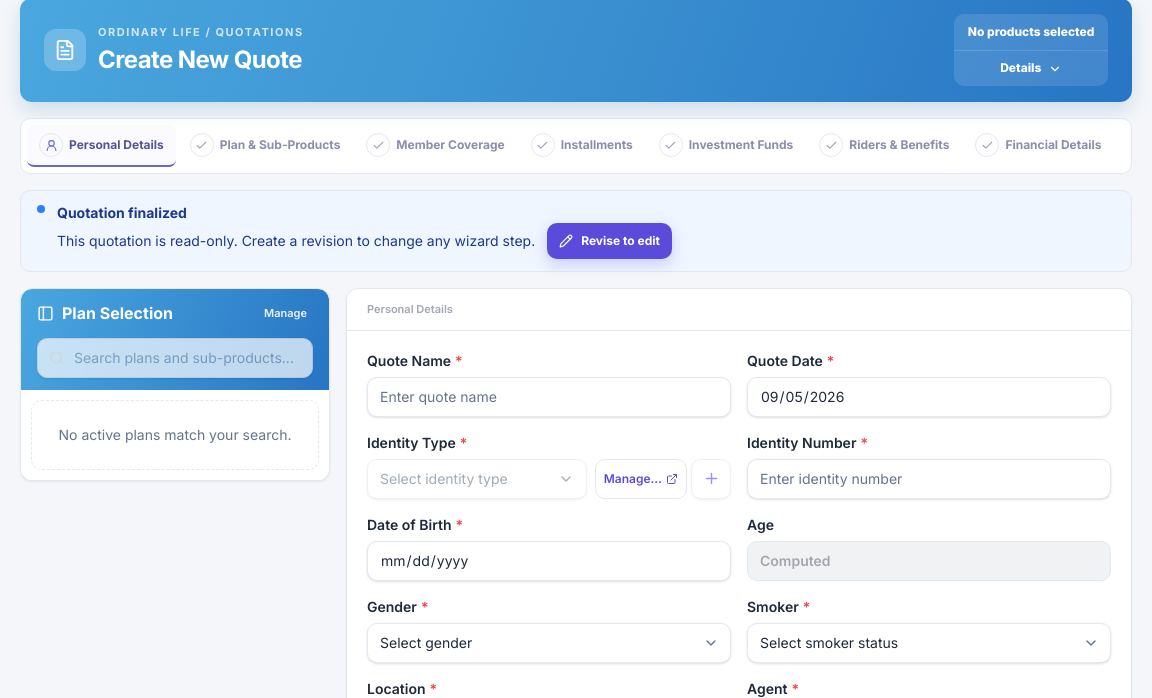
Test case: OL quotation wizard › shows finalized quotations as read-only and enables editing through Revise
Expected: the text "This quotation is read-only. Create a revision to change any wizard step." is shown, [57,229,535,253]
Click the button "Revise to edit" at (610, 241), box [547,223,672,259]
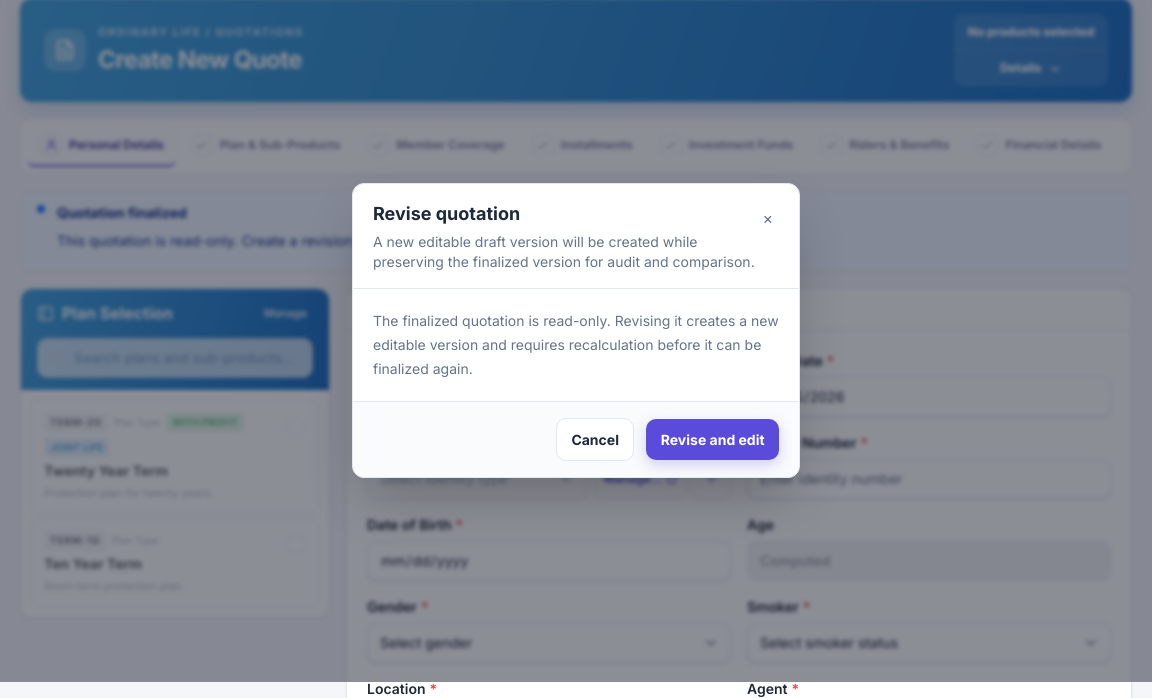
Click the button "Revise and edit" at (713, 439), box [646,418,779,460]
(page scrolled)
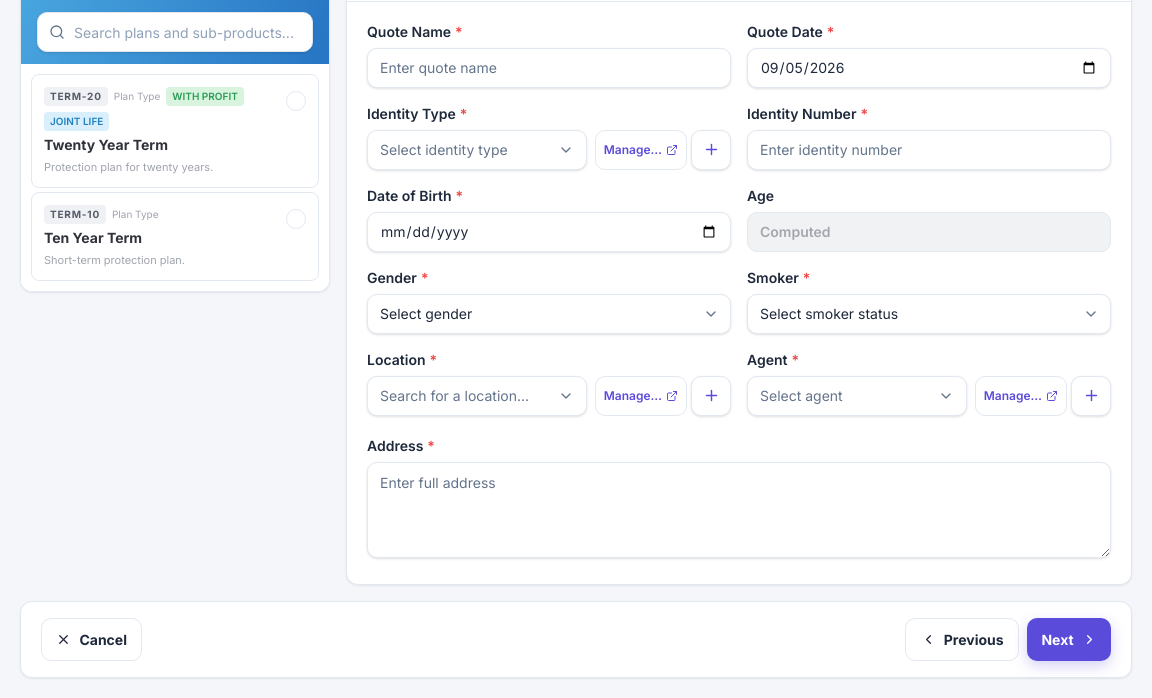
Now the text "This quotation is read-only. Create a revision to change any wizard step." is gone
Now the button "Next" is enabled, box [1027,618,1111,661]
